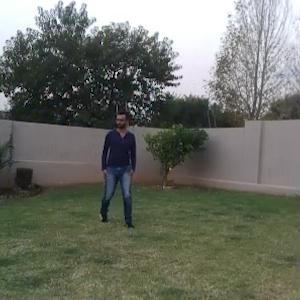follow: (98, 101, 143, 231)
